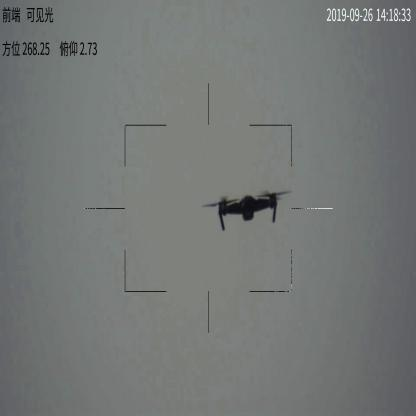uav: (204, 183, 294, 233)
